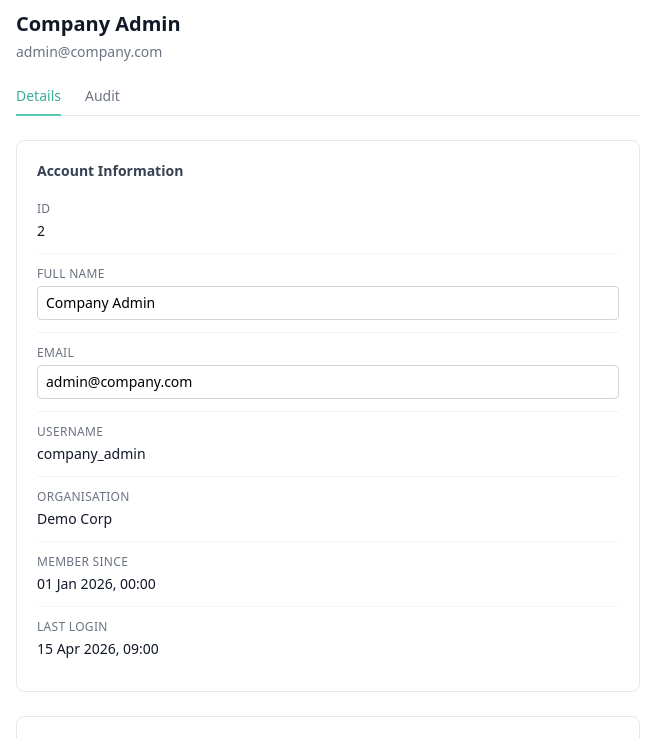
Test: T-SETTINGS-USERS-D06: audit tab shows AuditTable with events › renders audit event actions in the table
Click the button with test id "tab-audit": x=102, y=101 left=85, top=86, right=120, bottom=116
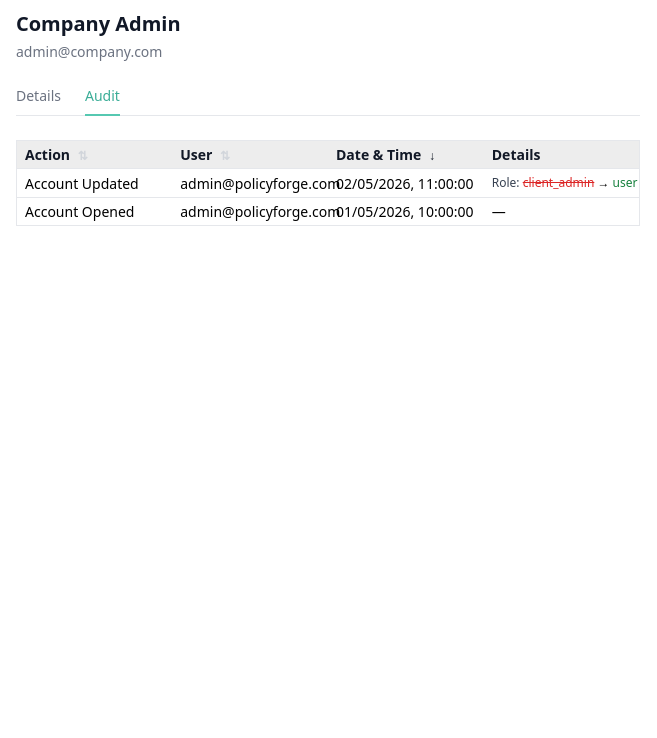
Result: the text "Account Opened" is shown at left=16, top=197, right=172, bottom=226
Result: the text "Account Updated" is shown at left=16, top=169, right=172, bottom=197
